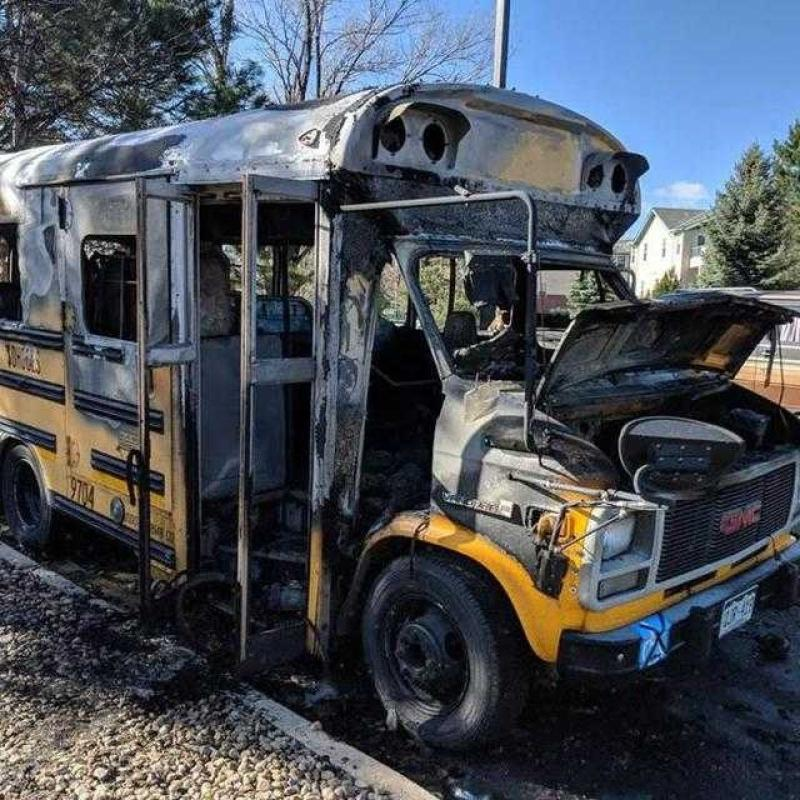bus: (17, 103, 800, 712)
